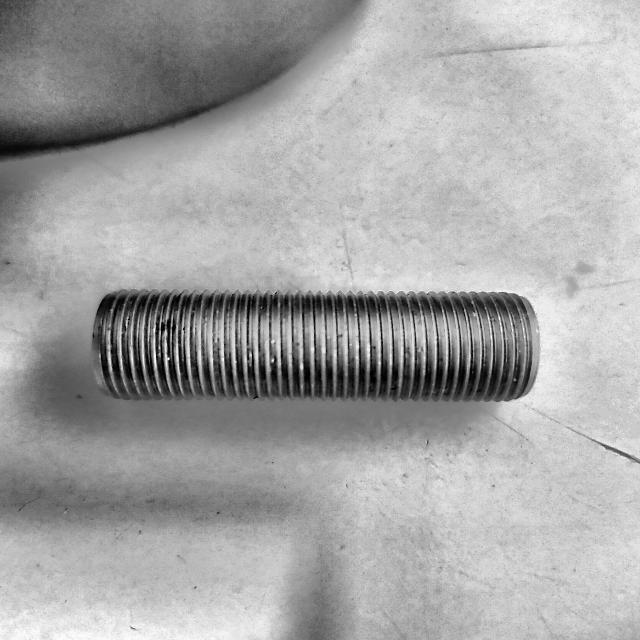Normal: (92, 288, 541, 403)
